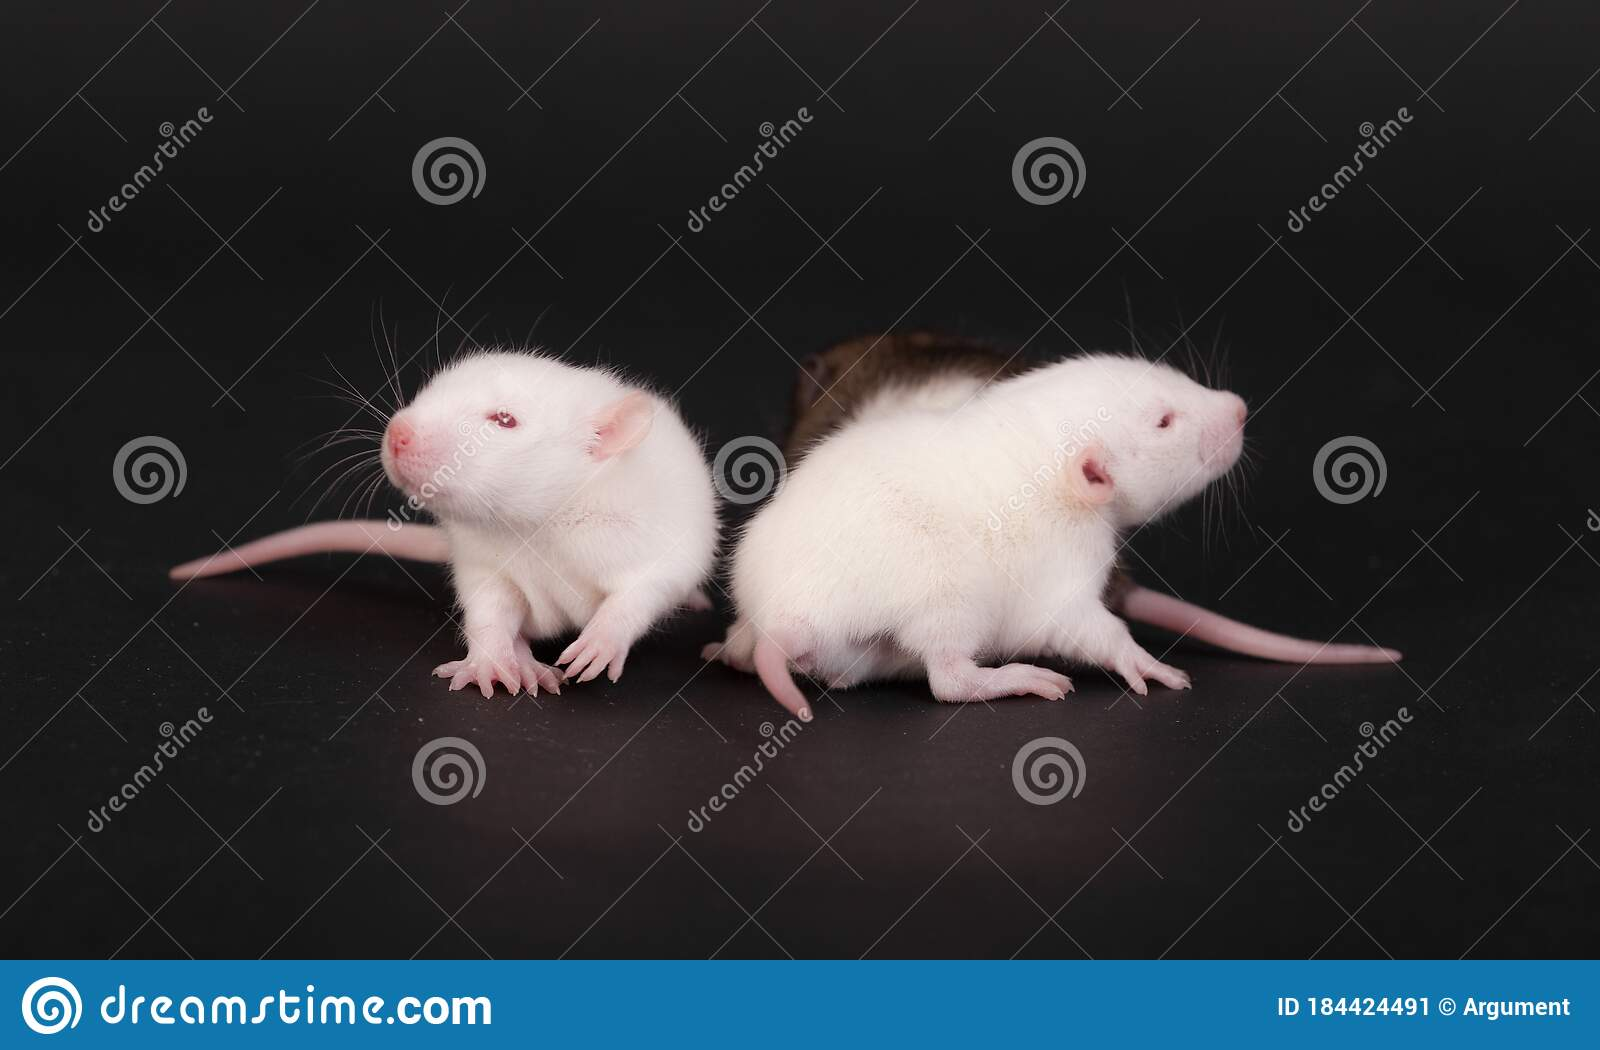mouse: (795, 320, 1333, 744), (316, 333, 719, 691)
